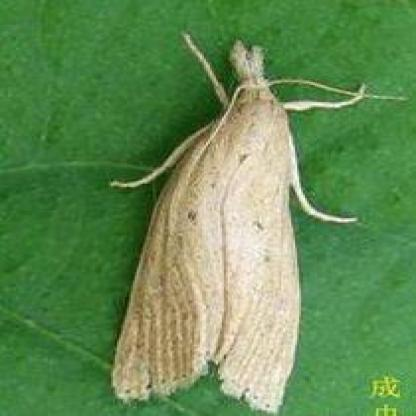stem-borer: (108, 28, 364, 416)
